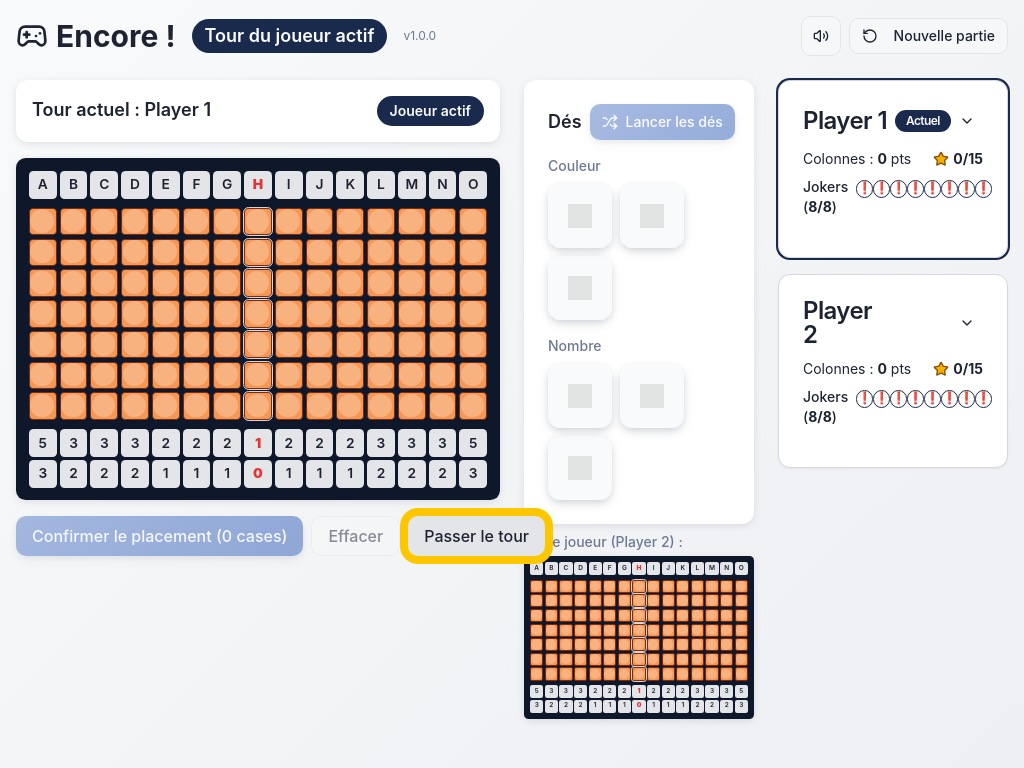
Test case: EncoreGame selection logic › cancels the pending abandon confirmation when focus leaves the button
Click the button "Nouvelle partie" at [928, 36], box 849,18 -> 1008,54
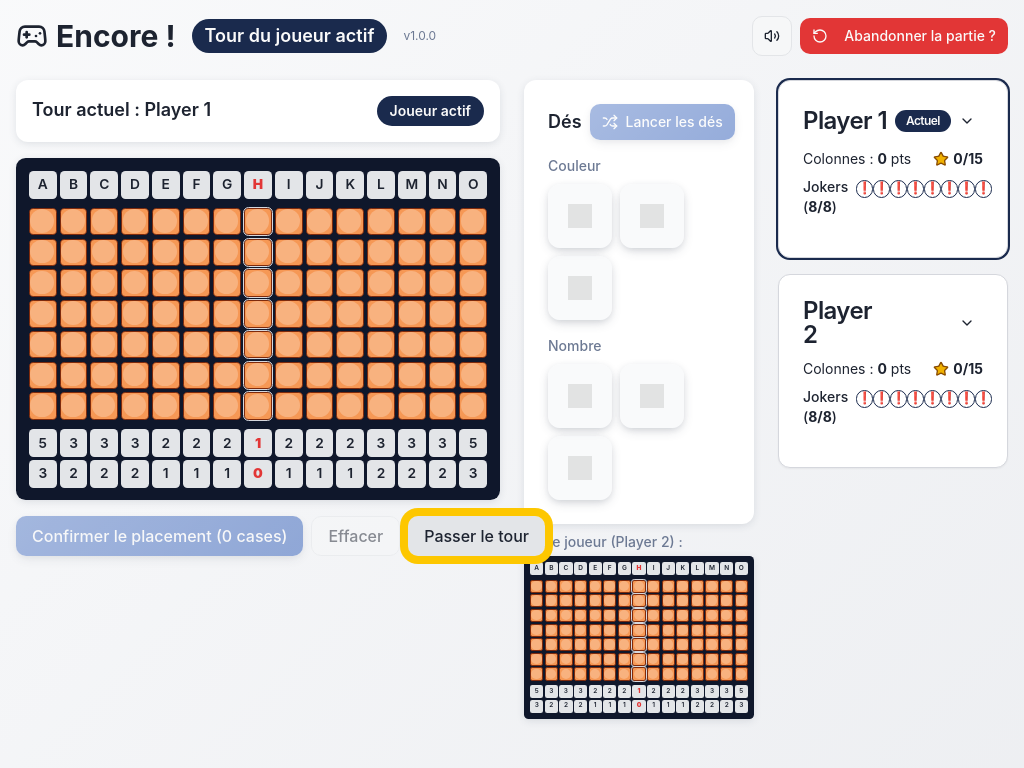
Leave the button "Abandonner la partie ?", box 800,18 -> 1008,54
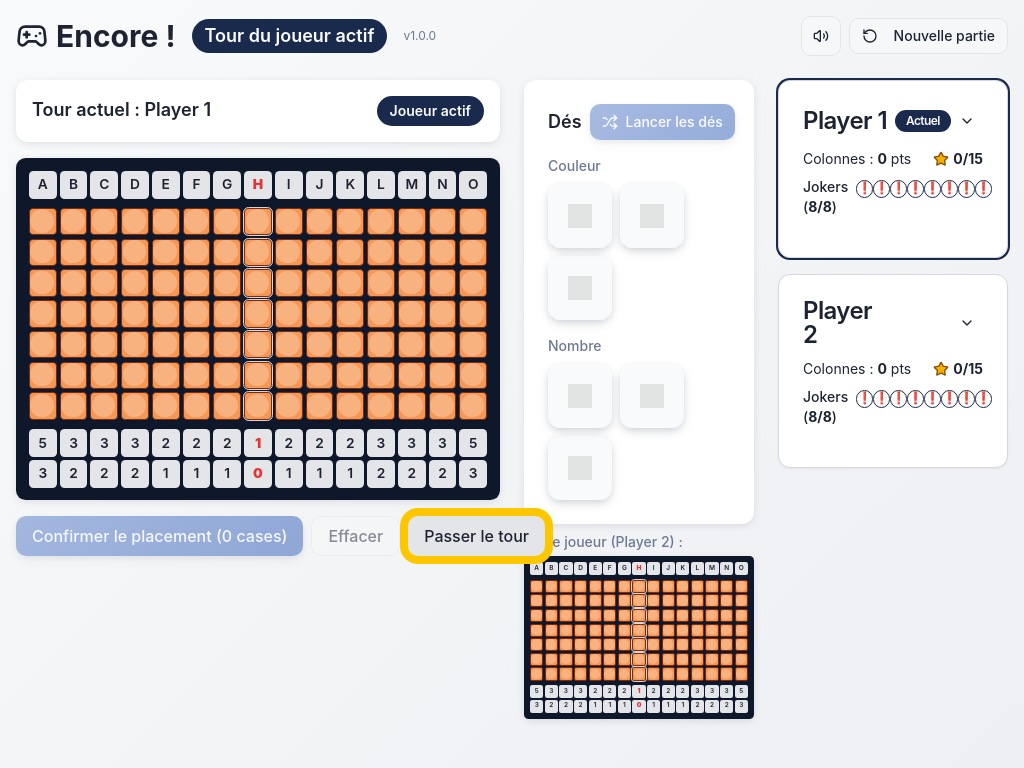
Expected: the button "Nouvelle partie" is shown, 849,18 -> 1008,54
